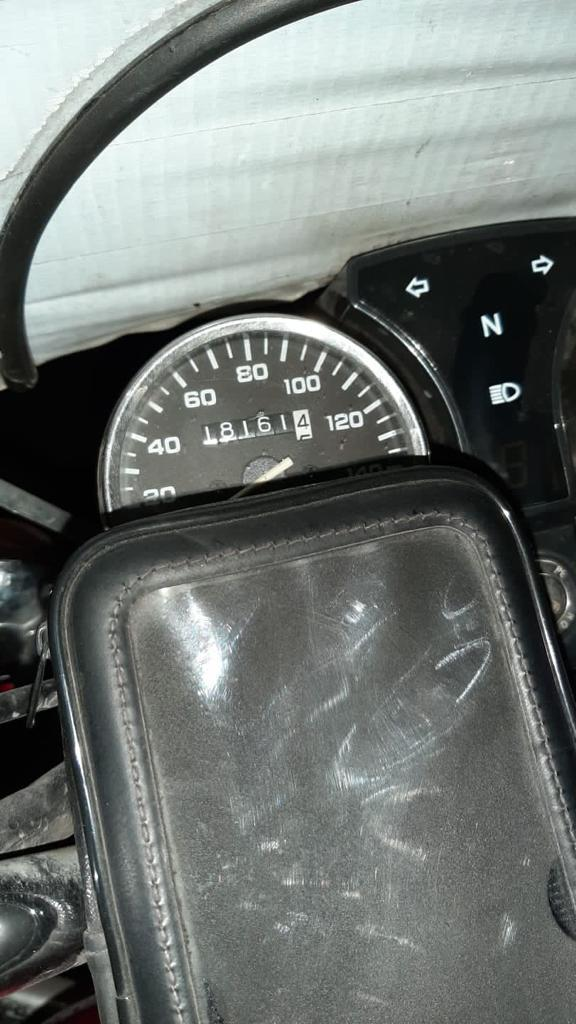1: (278, 412, 288, 431), (241, 418, 250, 436), (203, 424, 211, 442)
4: (295, 413, 310, 430)
6: (256, 415, 271, 433)
8: (218, 421, 235, 438)
odometer: (196, 406, 315, 447)
